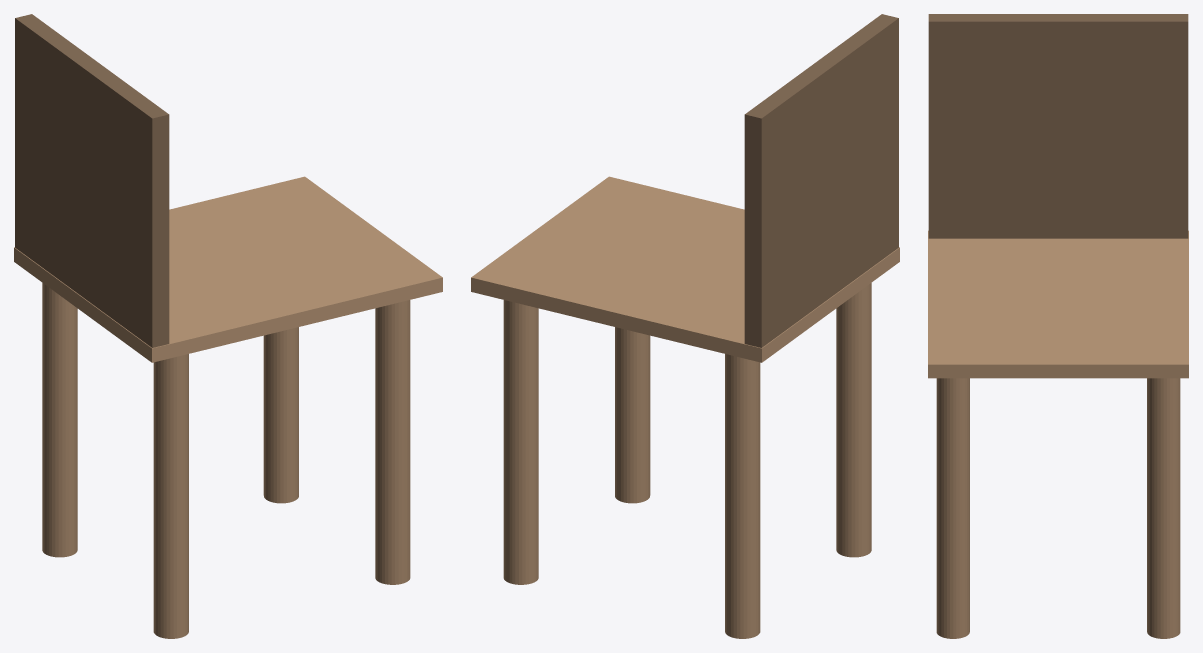
Rendered from chair.fbx.
3 renders of one model, left to right at view 1: azimuth 30°, elevation 25°; view 2: azimuth 150°, elevation 25°; view 3: azimuth 270°, elevation 25°, orthographic. The views are drawn at different scales.
Visible parts, largest first — view 1: Cube.001, Cube, Cylinder.002, Cylinder, Cylinder.003, Cylinder.001; view 2: Cube.001, Cube, Cylinder.001, Cylinder.003, Cylinder, Cylinder.002; view 3: Cube.001, Cube, Cylinder.002, Cylinder.001.
Boxes of the visible parts, x1,y1,x2,y2 form: Cube.001: [15, 14, 169, 347]; Cube: [14, 176, 442, 362]; Cylinder.002: [375, 300, 410, 584]; Cylinder: [153, 354, 188, 638]; Cylinder.003: [42, 283, 77, 557]; Cylinder.001: [263, 327, 298, 503]; Cube.001: [744, 14, 898, 347]; Cube: [471, 176, 899, 362]; Cylinder.001: [503, 300, 538, 584]; Cylinder.003: [725, 354, 760, 638]; Cylinder: [836, 283, 871, 557]; Cylinder.002: [615, 327, 650, 503]; Cube.001: [928, 14, 1188, 238]; Cube: [928, 230, 1188, 378]; Cylinder.002: [936, 378, 969, 638]; Cylinder.001: [1147, 378, 1180, 638].
Bounding box in the file's own units: 133 × 231 × 109.
